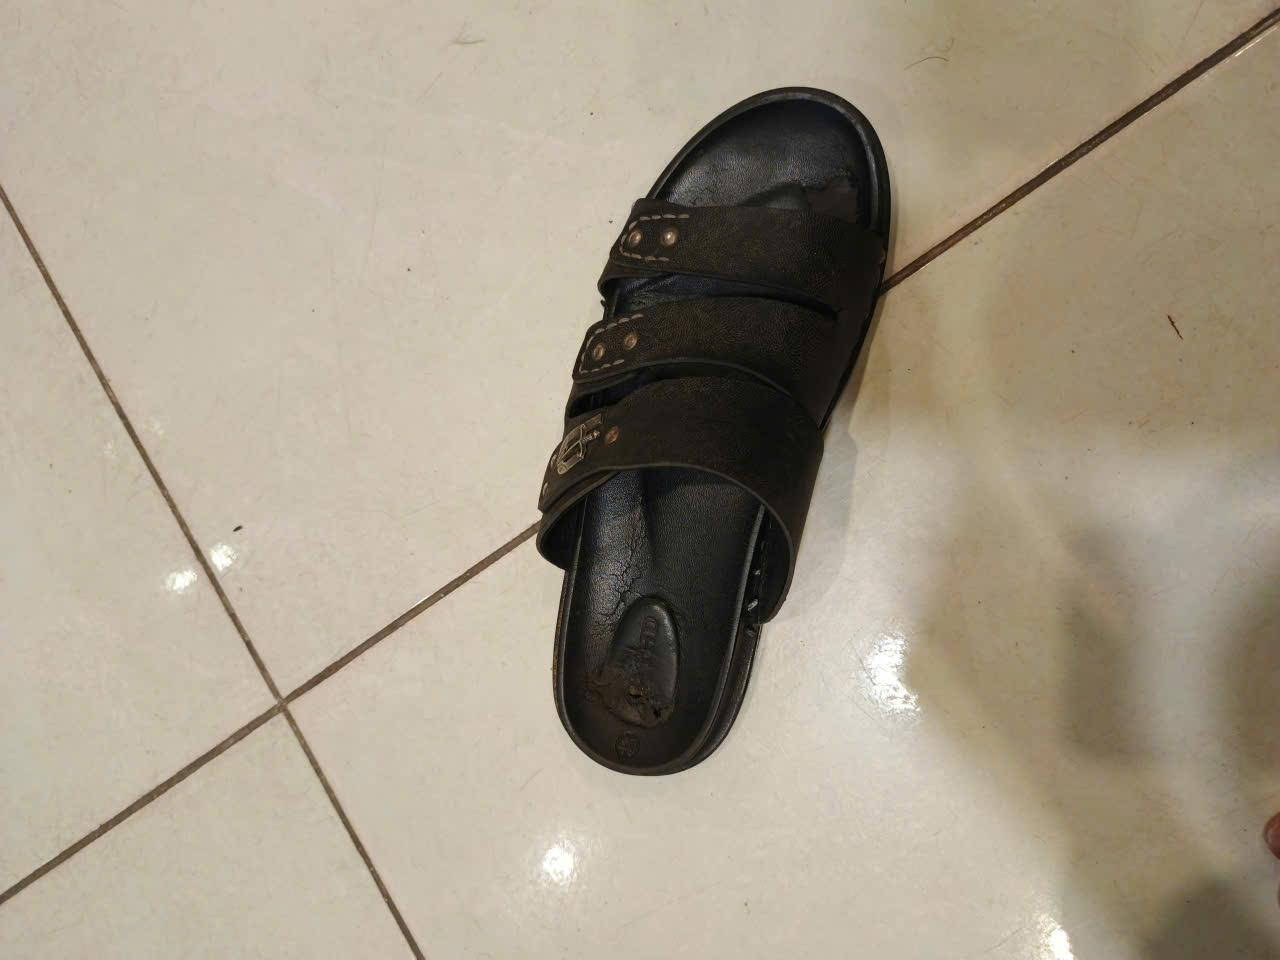Con lai: (532, 84, 896, 772)
